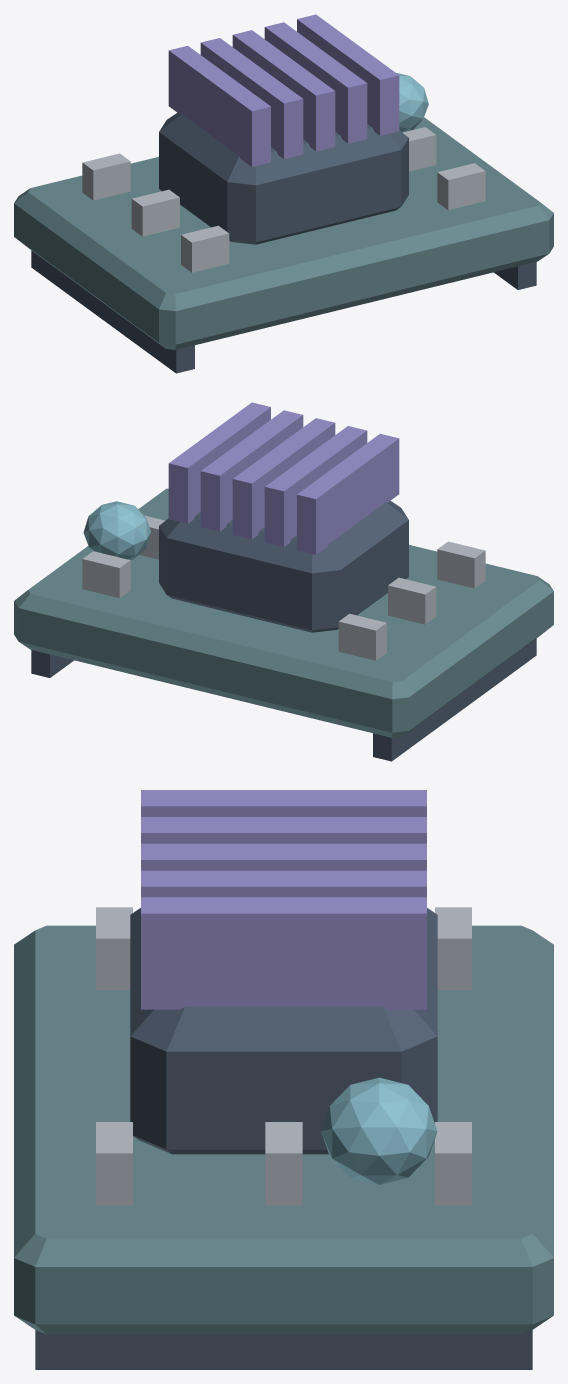
Rendered from chip-ai.glb.
3 renders of one model, top to bottom at view 1: azimuth 30°, elevation 25°; view 2: azimuth 150°, elevation 25°; view 3: azimuth 270°, elevation 25°, orthographic. The views are drawn at different scales.
Visible parts, largest first — view 1: 000_flight_control_board, 003_processor, 011_processor_heatsink, 013_processor_heatsink, 014_processor_heatsink, 012_processor_heatsink, 015_processor_heatsink, 001_pcb_mounting, 007_connector, 005_connector, 006_connector, 010_connector (+3 smaller); view 2: 000_flight_control_board, 003_processor, 011_processor_heatsink, 013_processor_heatsink, 014_processor_heatsink, 012_processor_heatsink, 015_processor_heatsink, 001_pcb_mounting, 016_compute_led, 005_connector, 006_connector, 007_connector (+3 smaller); view 3: 000_flight_control_board, 003_processor, 015_processor_heatsink, 002_pcb_mounting, 016_compute_led, 013_processor_heatsink, 014_processor_heatsink, 011_processor_heatsink, 012_processor_heatsink, 009_connector, 010_connector, 008_connector (+2 smaller).
Part boxes in pixels (x1,y1,x2,y2): 000_flight_control_board: (14,117,553,349); 003_processor: (159,113,408,244); 011_processor_heatsink: (168,45,270,166); 013_processor_heatsink: (232,30,335,151); 014_processor_heatsink: (264,22,367,143); 012_processor_heatsink: (200,38,303,159); 015_processor_heatsink: (297,14,399,135); 001_pcb_mounting: (31,250,194,373); 007_connector: (181,225,229,272); 005_connector: (82,153,130,200); 006_connector: (131,189,179,236); 010_connector: (437,163,485,210); 000_flight_control_board: (14,488,553,737); 003_processor: (159,501,408,632); 011_processor_heatsink: (297,433,399,554); 013_processor_heatsink: (232,418,335,539); 014_processor_heatsink: (200,410,303,531); 012_processor_heatsink: (264,426,367,547); 015_processor_heatsink: (168,402,270,523); 001_pcb_mounting: (373,638,536,761); 016_compute_led: (83,501,151,560); 005_connector: (338,613,386,660); 006_connector: (388,577,436,624); 007_connector: (437,541,485,588); 000_flight_control_board: (14,925,553,1334); 003_processor: (130,908,437,1154); 015_processor_heatsink: (141,897,426,1009); 002_pcb_mounting: (35,1330,532,1369); 016_compute_led: (321,1077,437,1184); 013_processor_heatsink: (141,843,426,870); 014_processor_heatsink: (141,870,426,897); 011_processor_heatsink: (141,790,426,816); 012_processor_heatsink: (141,817,426,843); 009_connector: (265,1122,302,1205); 010_connector: (96,1122,132,1205); 008_connector: (435,1122,471,1205).
Bounding box in the file's own units: 0.74 × 0.3825 × 0.51.
